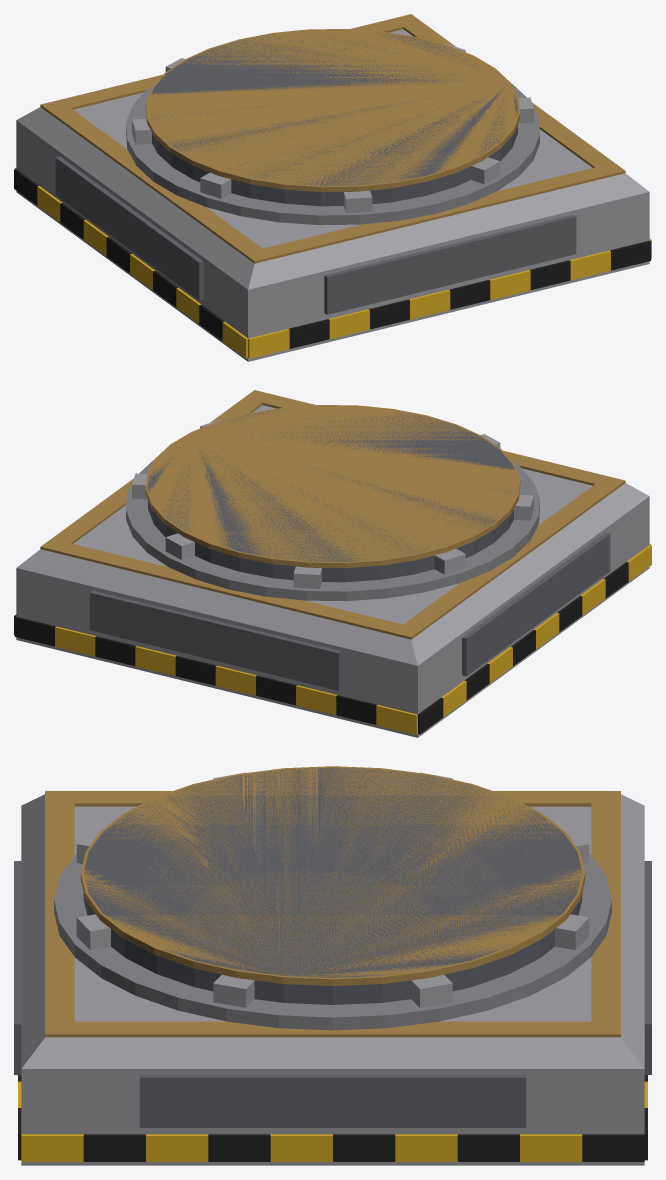
The model's file is vge_gun_pedestal_3x3_trim.obj.
The picture shows the model from 3 angles, top to bottom: view 1: azimuth 30°, elevation 25°; view 2: azimuth 150°, elevation 25°; view 3: azimuth 270°, elevation 25°; orthographic projection. The views are drawn at different scales.
Parts seen in each view (by area): view 1: vge_gun_pedestal_3x3_trim_52, vge_gun_pedestal_3x3_trim_1, vge_gun_pedestal_3x3_trim_51, vge_gun_pedestal_3x3_trim_0, vge_gun_pedestal_3x3_trim_5, vge_gun_pedestal_3x3_trim_50, vge_gun_pedestal_3x3_trim_3, vge_gun_pedestal_3x3_trim_46, vge_gun_pedestal_3x3_trim_48, vge_gun_pedestal_3x3_trim_47, vge_gun_pedestal_3x3_trim_49, vge_gun_pedestal_3x3_trim_7 (+22 smaller); view 2: vge_gun_pedestal_3x3_trim_52, vge_gun_pedestal_3x3_trim_1, vge_gun_pedestal_3x3_trim_51, vge_gun_pedestal_3x3_trim_0, vge_gun_pedestal_3x3_trim_4, vge_gun_pedestal_3x3_trim_50, vge_gun_pedestal_3x3_trim_3, vge_gun_pedestal_3x3_trim_47, vge_gun_pedestal_3x3_trim_48, vge_gun_pedestal_3x3_trim_46, vge_gun_pedestal_3x3_trim_49, vge_gun_pedestal_3x3_trim_6 (+22 smaller); view 3: vge_gun_pedestal_3x3_trim_51, vge_gun_pedestal_3x3_trim_52, vge_gun_pedestal_3x3_trim_1, vge_gun_pedestal_3x3_trim_0, vge_gun_pedestal_3x3_trim_2, vge_gun_pedestal_3x3_trim_50, vge_gun_pedestal_3x3_trim_49, vge_gun_pedestal_3x3_trim_46, vge_gun_pedestal_3x3_trim_47, vge_gun_pedestal_3x3_trim_48, vge_gun_pedestal_3x3_trim_8, vge_gun_pedestal_3x3_trim_12 (+14 smaller).
Part boxes in pixels (<box>): vge_gun_pedestal_3x3_trim_52: <box>145,29,520,192</box>; vge_gun_pedestal_3x3_trim_1: <box>16,29,649,289</box>; vge_gun_pedestal_3x3_trim_51: <box>151,30,517,206</box>; vge_gun_pedestal_3x3_trim_0: <box>16,120,649,361</box>; vge_gun_pedestal_3x3_trim_5: <box>324,214,576,314</box>; vge_gun_pedestal_3x3_trim_50: <box>126,83,539,225</box>; vge_gun_pedestal_3x3_trim_3: <box>55,156,203,300</box>; vge_gun_pedestal_3x3_trim_46: <box>243,162,625,263</box>; vge_gun_pedestal_3x3_trim_48: <box>51,108,262,255</box>; vge_gun_pedestal_3x3_trim_47: <box>40,14,421,114</box>; vge_gun_pedestal_3x3_trim_49: <box>403,22,613,167</box>; vge_gun_pedestal_3x3_trim_7: <box>248,329,289,358</box>; vge_gun_pedestal_3x3_trim_52: <box>145,405,520,568</box>; vge_gun_pedestal_3x3_trim_1: <box>16,405,649,665</box>; vge_gun_pedestal_3x3_trim_51: <box>148,406,516,582</box>; vge_gun_pedestal_3x3_trim_0: <box>16,496,649,737</box>; vge_gun_pedestal_3x3_trim_4: <box>89,590,341,690</box>; vge_gun_pedestal_3x3_trim_50: <box>126,459,539,601</box>; vge_gun_pedestal_3x3_trim_3: <box>462,532,610,676</box>; vge_gun_pedestal_3x3_trim_47: <box>40,538,422,639</box>; vge_gun_pedestal_3x3_trim_48: <box>403,484,614,631</box>; vge_gun_pedestal_3x3_trim_46: <box>244,390,625,490</box>; vge_gun_pedestal_3x3_trim_49: <box>52,398,262,543</box>; vge_gun_pedestal_3x3_trim_6: <box>376,705,417,734</box>; vge_gun_pedestal_3x3_trim_51: <box>83,767,582,1004</box>; vge_gun_pedestal_3x3_trim_52: <box>80,766,585,985</box>; vge_gun_pedestal_3x3_trim_1: <box>21,794,644,1068</box>; vge_gun_pedestal_3x3_trim_0: <box>21,1069,644,1165</box>; vge_gun_pedestal_3x3_trim_2: <box>139,1074,526,1127</box>; vge_gun_pedestal_3x3_trim_50: <box>54,854,611,1030</box>; vge_gun_pedestal_3x3_trim_49: <box>74,1021,591,1037</box>; vge_gun_pedestal_3x3_trim_46: <box>45,791,74,1037</box>; vge_gun_pedestal_3x3_trim_47: <box>591,791,620,1037</box>; vge_gun_pedestal_3x3_trim_48: <box>74,791,591,806</box>; vge_gun_pedestal_3x3_trim_8: <box>21,1134,83,1161</box>; vge_gun_pedestal_3x3_trim_12: <box>83,1134,145,1161</box>.
Bounding box in the file's own units: 2.15 × 0.6 × 2.15.
